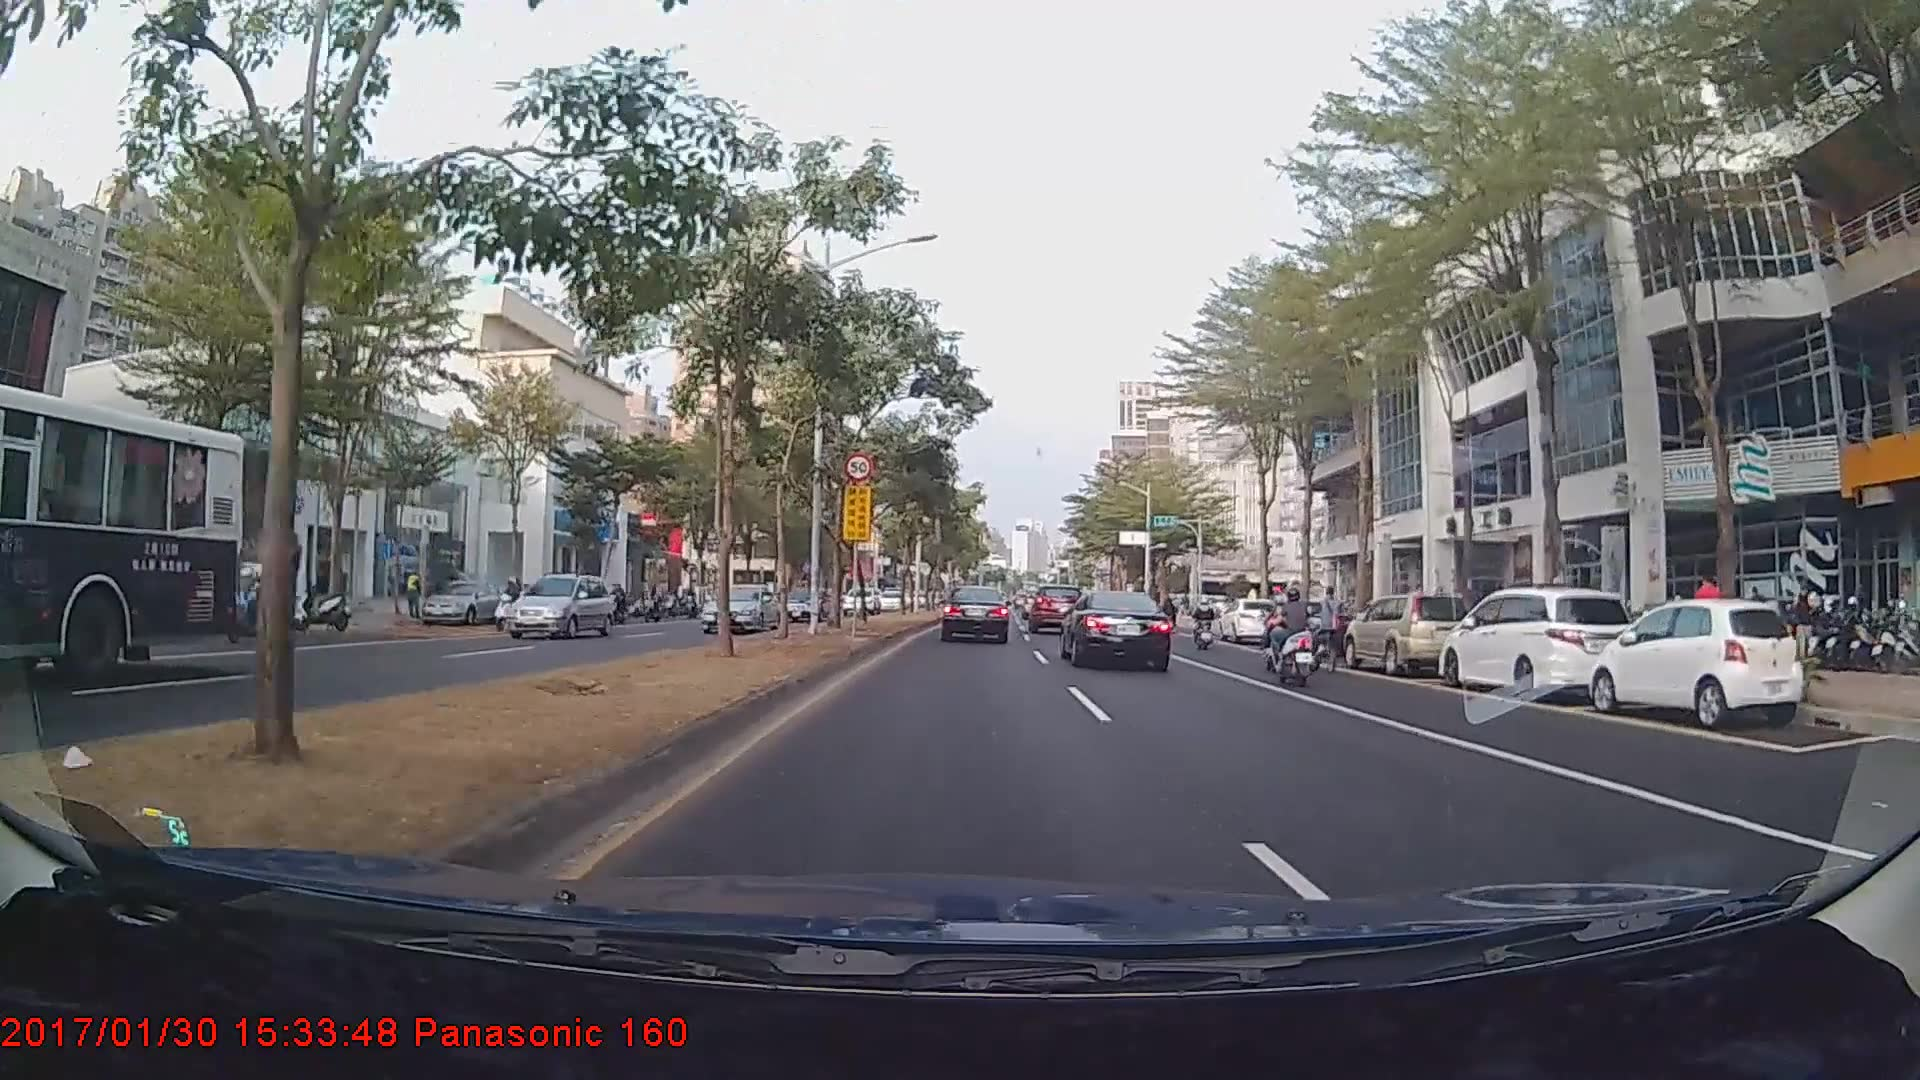rider: (1259, 582, 1331, 685), (494, 572, 535, 631), (1187, 592, 1220, 648)
vehicle: (0, 378, 242, 686), (1591, 597, 1807, 726), (1436, 588, 1635, 697), (1343, 592, 1475, 673), (1059, 586, 1174, 672), (499, 572, 616, 641), (699, 581, 780, 635), (939, 584, 1012, 643), (419, 580, 506, 623), (1222, 595, 1285, 645), (1028, 585, 1079, 633), (777, 584, 832, 620), (842, 588, 880, 614)
